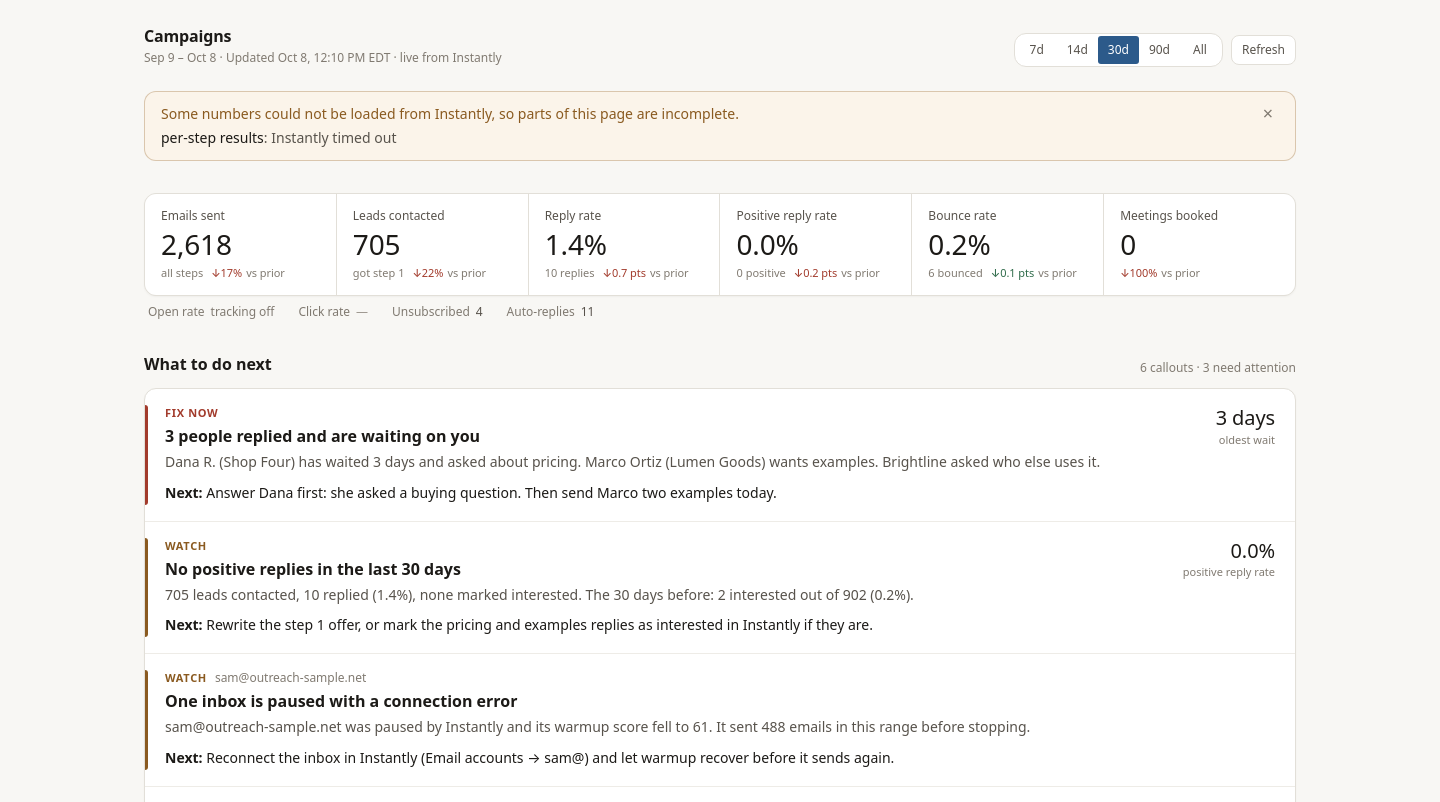
Test: Dashboard › partial errors are shown by name and can be dismissed
This screenshot has width=1440, height=802.
Expected: the message with test id "errors-notice" shows "per-step results", left=161, top=128, right=264, bottom=146
Expected: the message with test id "errors-notice" shows "Instantly timed out", left=271, top=128, right=396, bottom=146
Click the button named "Dismiss".
click(1268, 112)  # box left=1257, top=104, right=1279, bottom=122
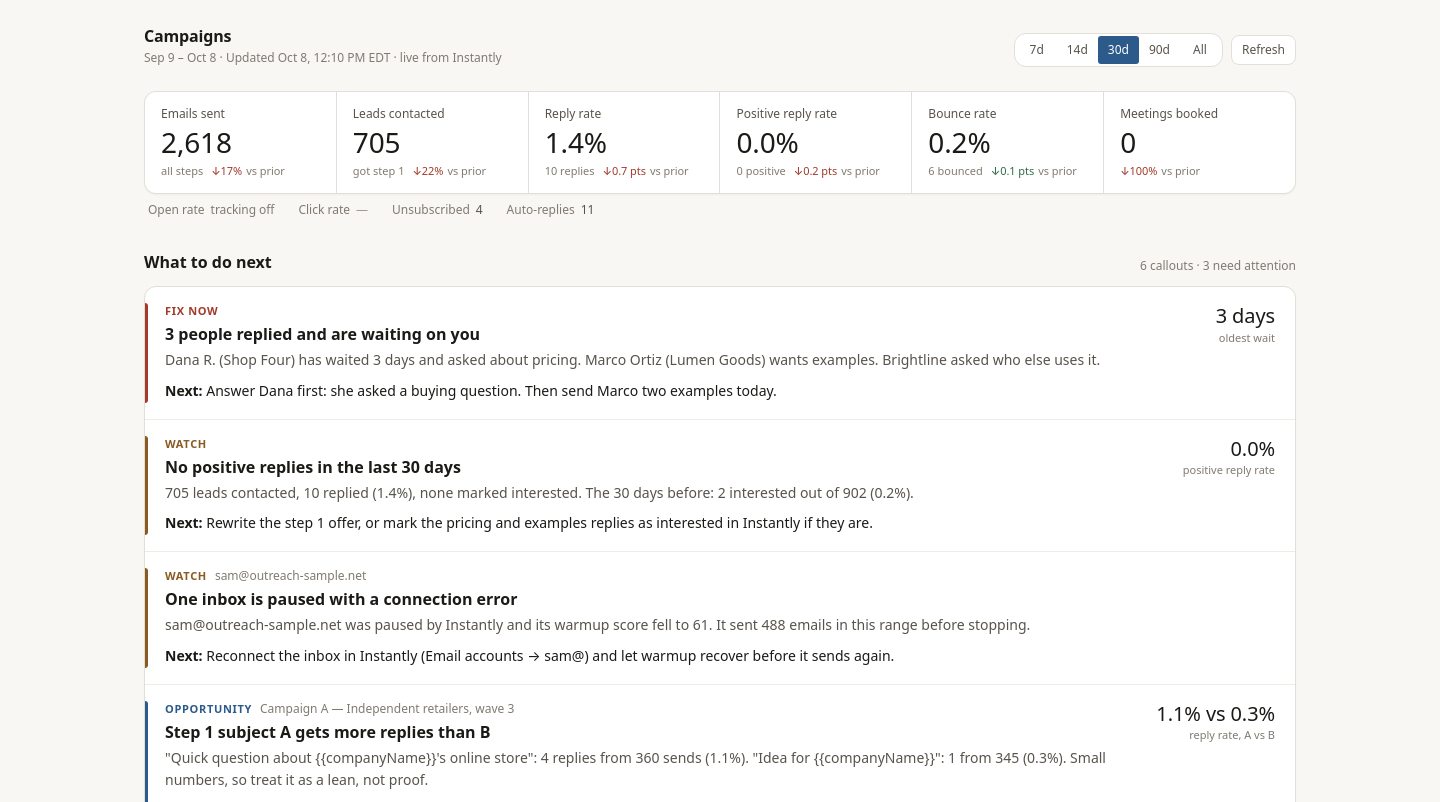
Expected: the message with test id "errors-notice" is gone
